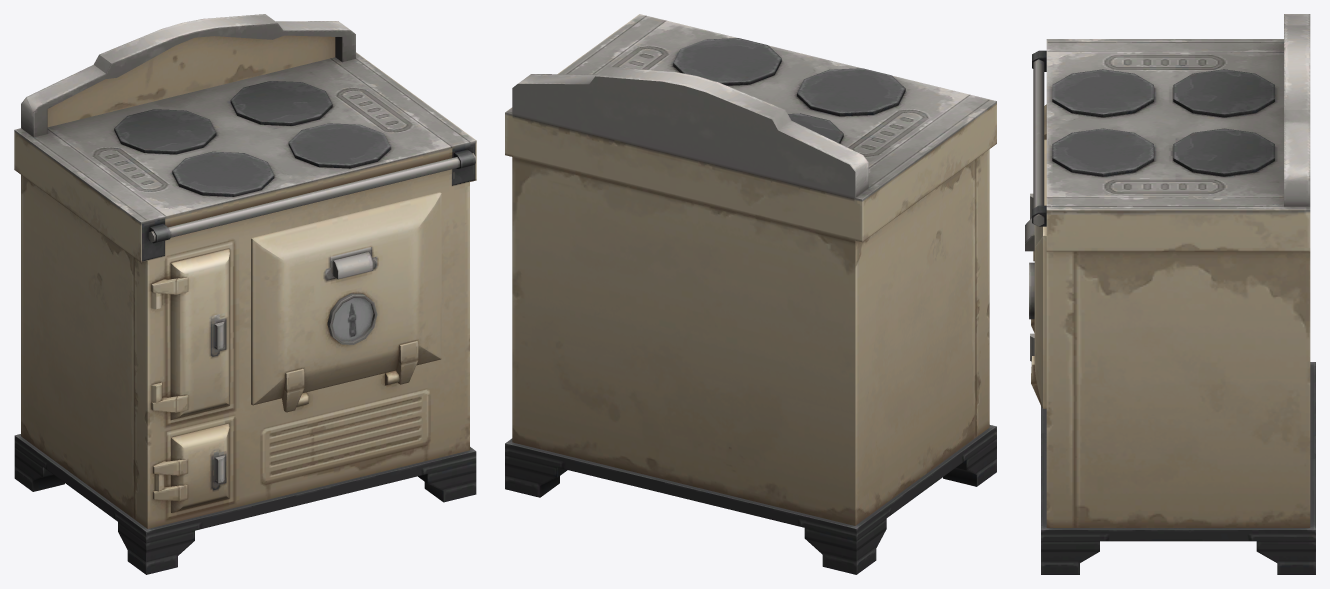
The model's file is cocina.fbx.
The picture shows the model from 3 angles, left to right: view 1: azimuth 30°, elevation 25°; view 2: azimuth 150°, elevation 25°; view 3: azimuth 270°, elevation 25°; orthographic projection. The views are drawn at different scales.
Parts seen in each view (by area): view 1: s4studio_mesh_1; view 2: s4studio_mesh_1; view 3: s4studio_mesh_1.
Part boxes in pixels (box(x1,y1,x2,y2)): s4studio_mesh_1: box(14, 14, 476, 574); s4studio_mesh_1: box(505, 14, 996, 574); s4studio_mesh_1: box(1025, 14, 1315, 574).
Bounding box in the file's own units: 100 × 119 × 71.93.
1 material, 1 textured.
